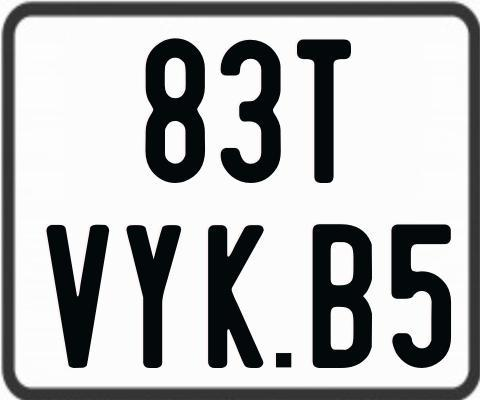3: (220, 37, 285, 181)
5: (391, 224, 456, 374)
8: (145, 38, 210, 183)
B: (313, 223, 374, 370)
K: (206, 223, 262, 371)
T: (296, 38, 351, 183)
V: (46, 224, 110, 370)
Y: (123, 222, 180, 369)
